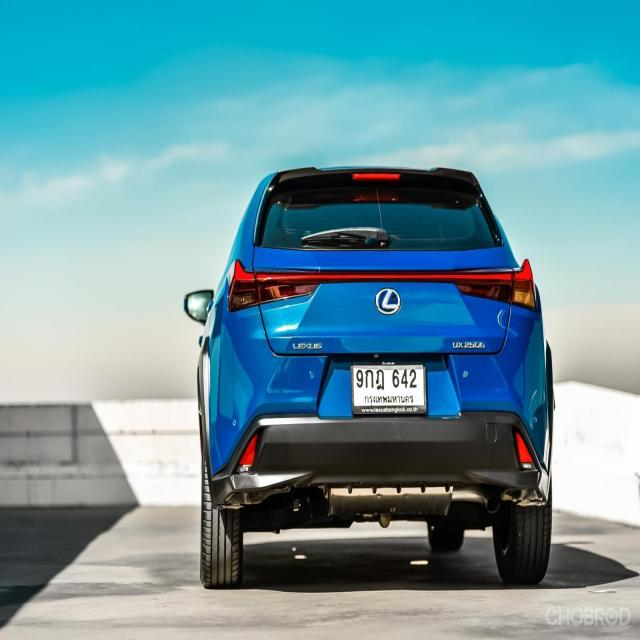license_plate: (351, 358, 428, 415)
